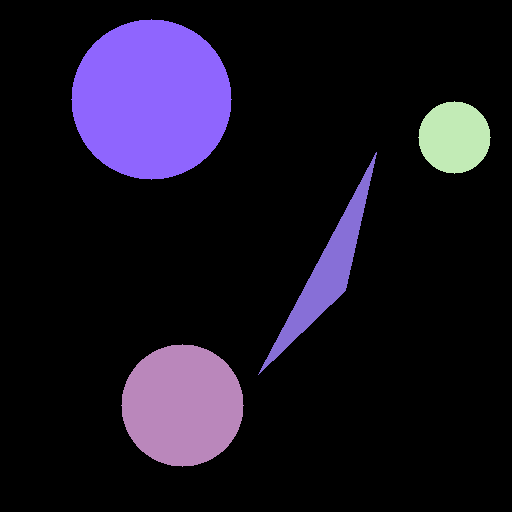circle: (71, 19, 231, 179), (121, 344, 243, 466), (418, 101, 490, 173)
triangle: (258, 152, 376, 374)
